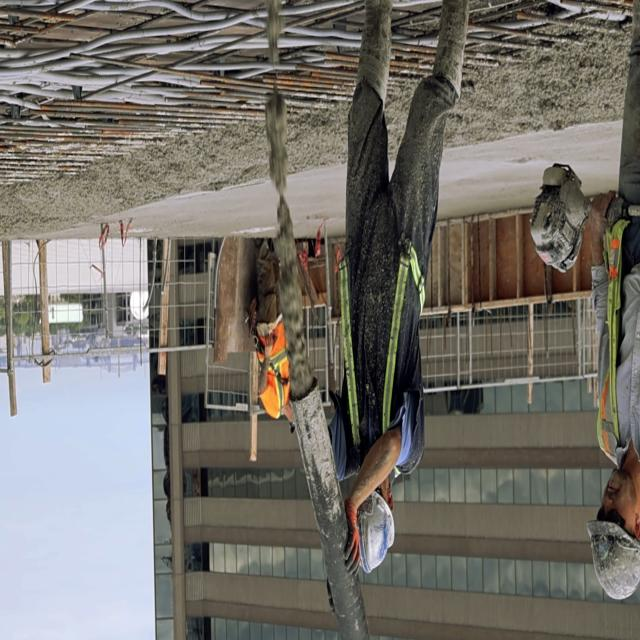Boots: (346, 0, 396, 101), (428, 0, 470, 98)
Helmet: (585, 515, 640, 601), (356, 488, 395, 576)
Vest: (595, 210, 640, 460), (259, 315, 289, 423)
